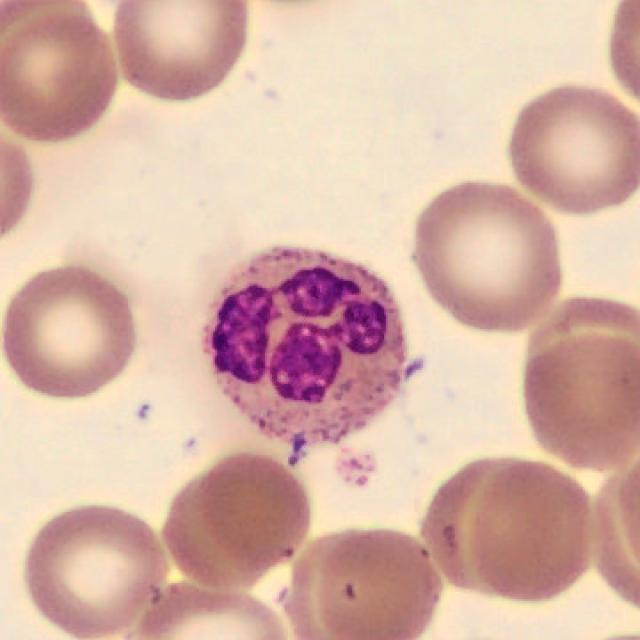Neutrofilo segmentado: (203, 249, 404, 444)
